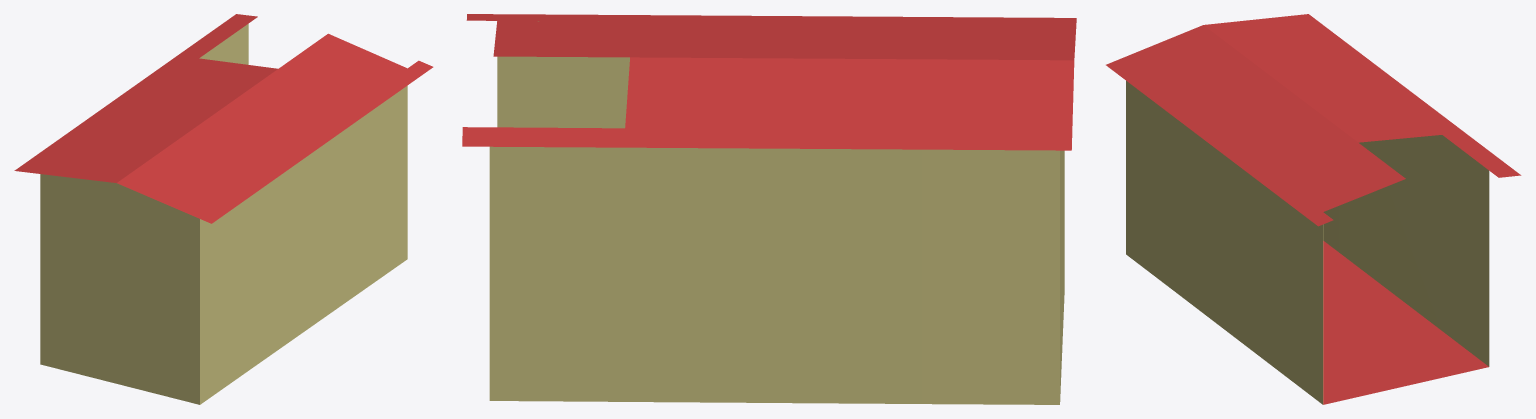
3 views of the same model, side by side, from view 1: azimuth 30°, elevation 25°; view 2: azimuth 150°, elevation 25°; view 3: azimuth 270°, elevation 25° (orthographic). The views are drawn at different scales.
Bounding box in the file's own units: 18.35 × 15.41 × 8.46.
